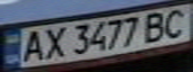3: (69, 20, 90, 55)
4: (87, 19, 112, 53)
7: (121, 14, 145, 47), (106, 16, 127, 51)
A: (15, 27, 48, 63)
B: (139, 9, 172, 43)
C: (157, 7, 193, 39)
X: (39, 24, 69, 61)
